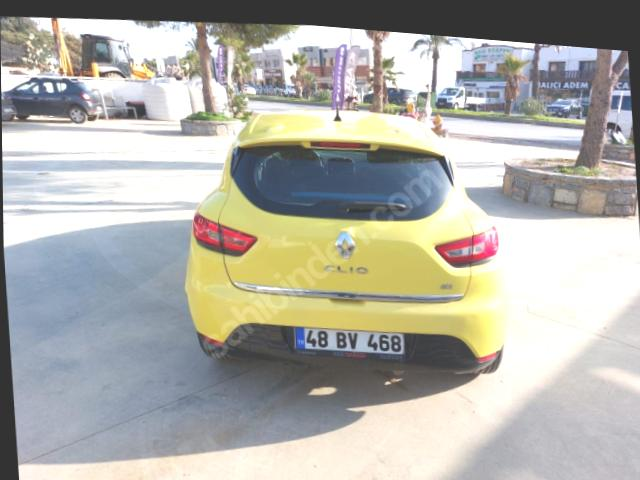plaka: (294, 328, 405, 355)
